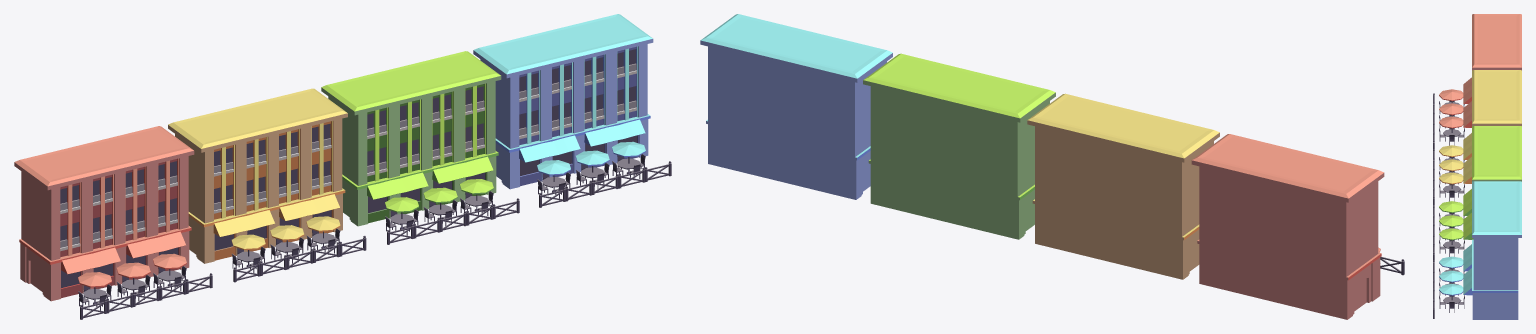
The model's file is cafe variants.fbx.
3 views of the same model, side by side, from view 1: azimuth 30°, elevation 25°; view 2: azimuth 150°, elevation 25°; view 3: azimuth 270°, elevation 25° (orthographic). The views are drawn at different scales.
Parts seen in each view (by area): view 1: building_5:pCube1, pCube1, pCube18, pCube76, pasted__pCube18, pasted__pCube20, pasted__pCube22, pasted__pCube21, pasted__pCube23, pasted__pCube19, building_5:pasted__pCube19, building_5:pasted__pCube18; view 2: building_5:pCube1, pCube18, pCube1, pCube76; view 3: pCube76, pCube18, building_5:pCube1, pCube1, building_5:pCylinder1 (×3), pCylinder1 (×3), pCylinder19, pCylinder5, pCylinder6, pCylinder15, pCylinder18, pCylinder7 (+12 smaller).
Boxes of the visible parts, x1,y1,x2,y2 form: building_5:pCube1: (14, 126, 194, 301); pCube1: (168, 88, 347, 263); pCube18: (321, 51, 501, 226); pCube76: (473, 14, 653, 189); pasted__pCube18: (213, 210, 274, 236); pasted__pCube20: (367, 172, 428, 199); pasted__pCube22: (519, 135, 580, 162); pasted__pCube21: (432, 156, 493, 183); pasted__pCube23: (584, 119, 645, 146); pasted__pCube19: (279, 194, 339, 220); building_5:pasted__pCube19: (126, 231, 185, 258); building_5:pasted__pCube18: (61, 247, 120, 274); building_5:pCube1: (1191, 134, 1384, 319); pCube18: (863, 53, 1055, 239); pCube1: (1027, 93, 1219, 279); pCube76: (700, 14, 892, 199); pCube76: (1472, 181, 1521, 319); pCube18: (1472, 126, 1521, 239); building_5:pCube1: (1472, 14, 1521, 70); pCube1: (1472, 70, 1521, 125); building_5:pCylinder1 (×3): (1439, 89, 1463, 128); pCylinder1 (×3): (1439, 145, 1463, 184); pCylinder19: (1439, 256, 1463, 268); pCylinder5: (1439, 215, 1463, 226); pCylinder6: (1439, 228, 1463, 240); pCylinder15: (1439, 284, 1463, 295); pCylinder18: (1439, 270, 1463, 282); pCylinder7: (1439, 201, 1463, 212).
Bounding box in the file's own units: 61.06 × 11.41 × 10.38.
